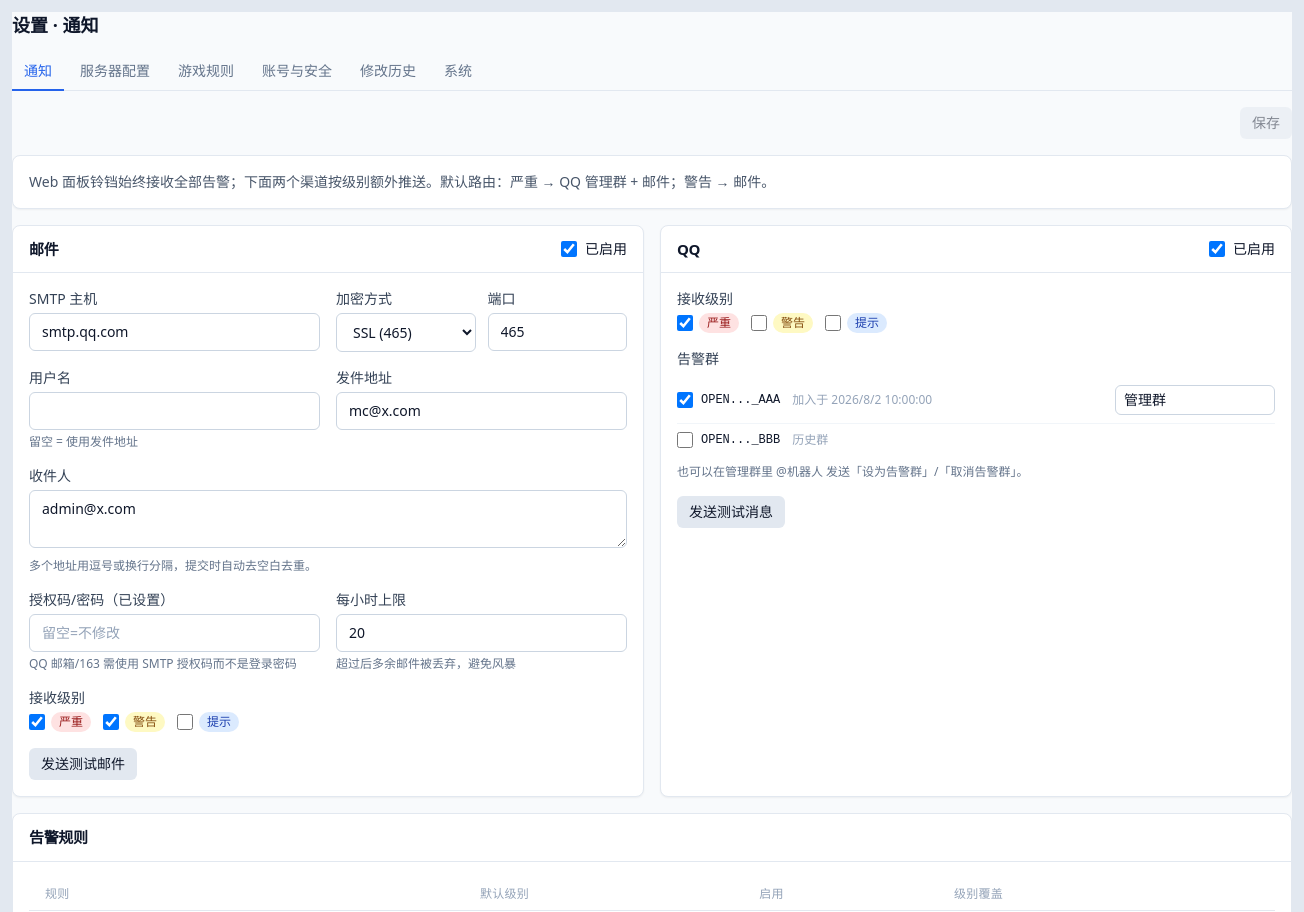
Test: SettingsPage › shows the 422 detail on save failure
Clear the field labelled "SMTP 主机" at (174, 332), box 29,313 -> 320,351
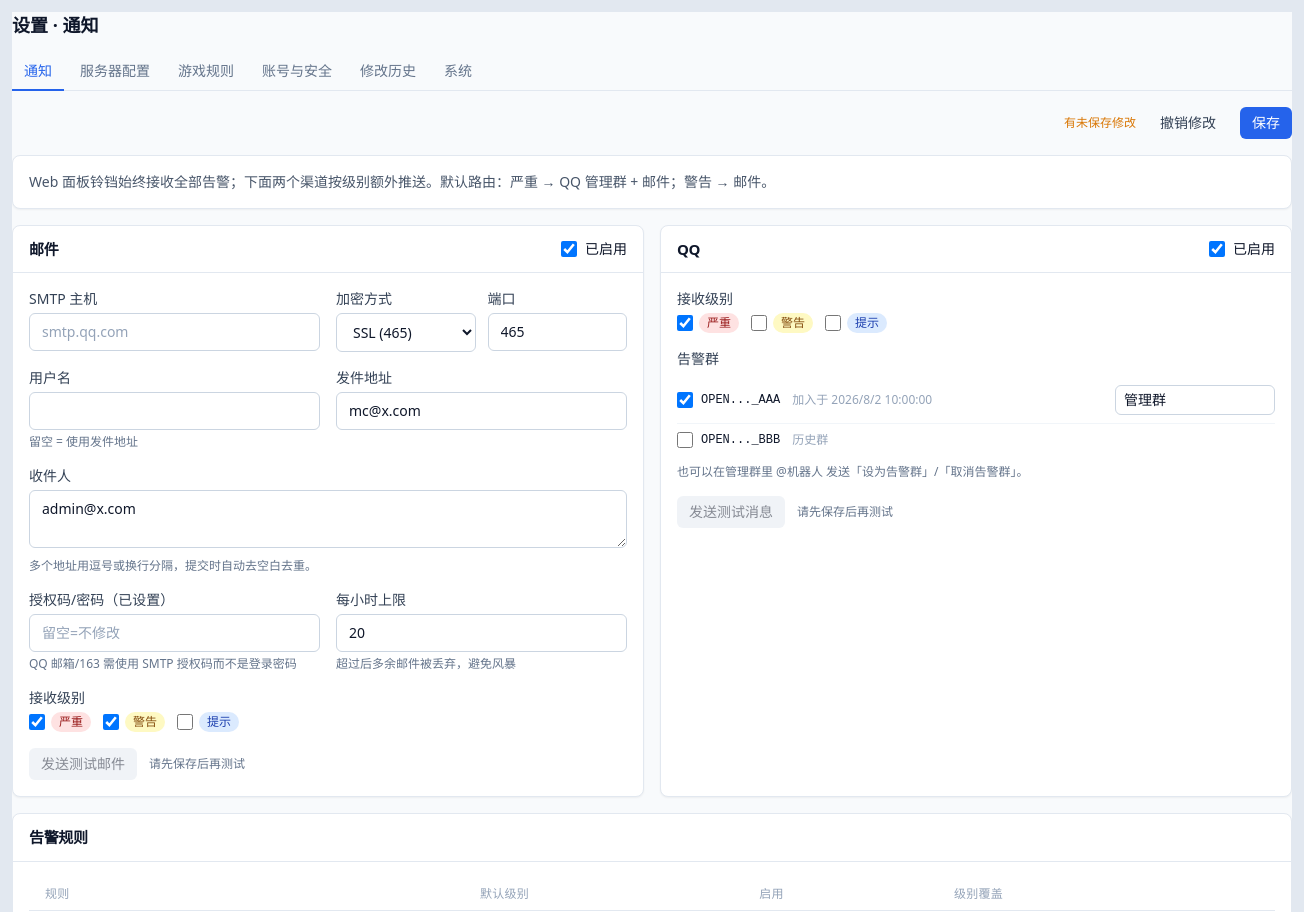
Click the button "保存" at (1266, 122), box 1240,106 -> 1292,138
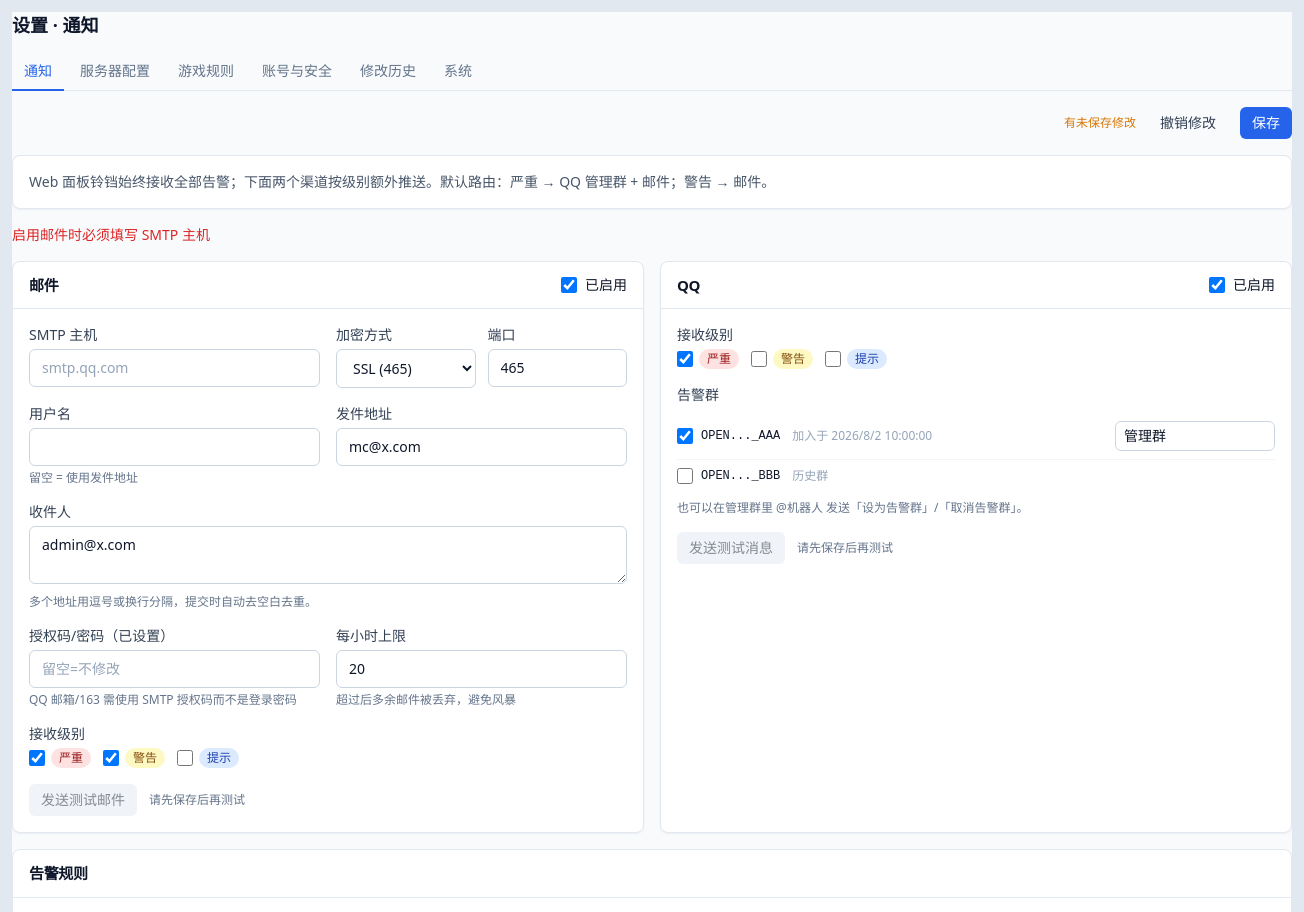
expect the text "启用邮件时必须填写 SMTP 主机" is shown: met, box 12,224 -> 210,244
